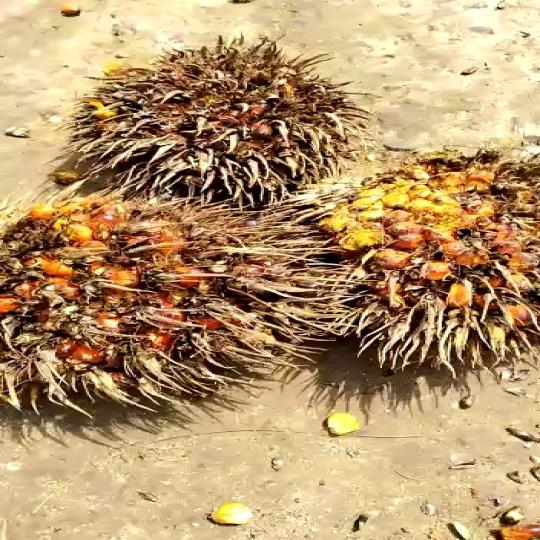terlalu masak: (0, 205, 311, 412), (70, 47, 377, 207)
